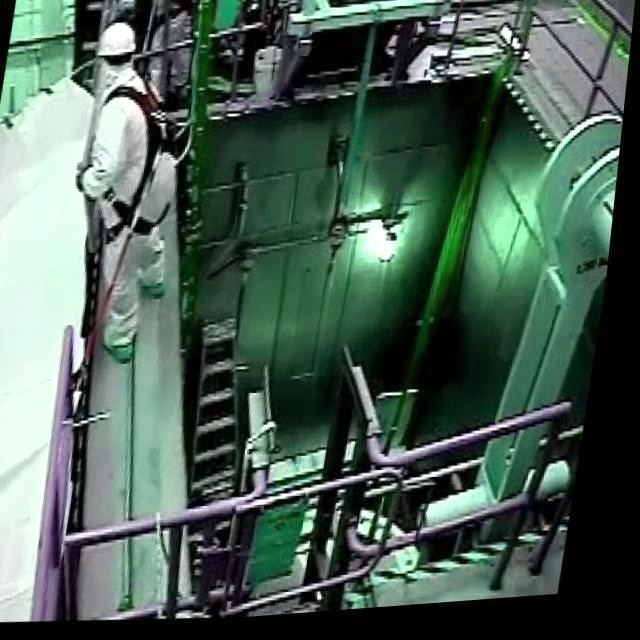safety belt: (67, 97, 171, 261)
